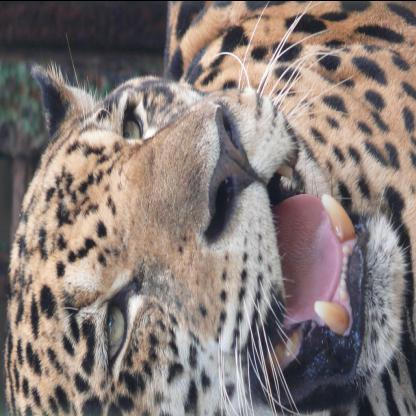leopard: (4, 41, 412, 415)
